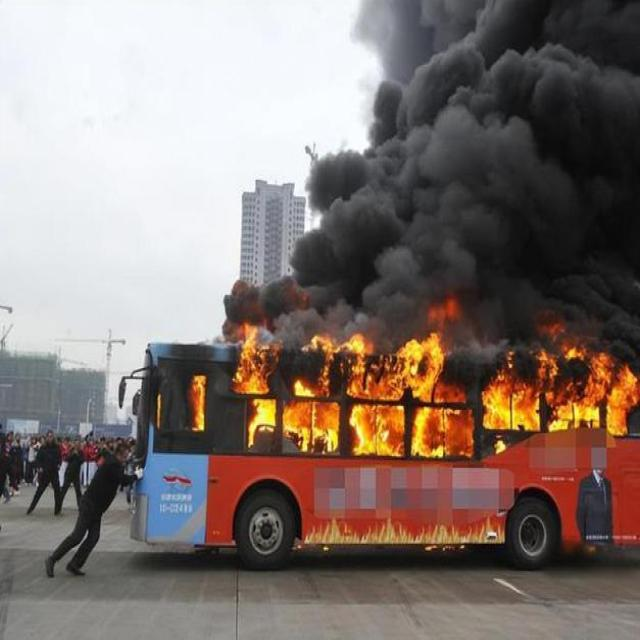Fire: (234, 323, 446, 400), (482, 335, 640, 435), (249, 401, 472, 456), (190, 373, 208, 433)
Smoke: (221, 0, 639, 321)
